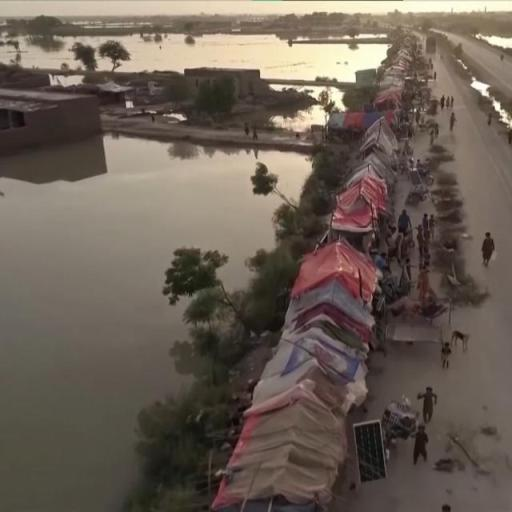flood: (0, 134, 312, 512), (114, 34, 388, 81), (18, 37, 110, 69), (263, 79, 356, 109), (473, 77, 512, 127), (273, 106, 327, 131), (477, 34, 512, 48), (0, 44, 16, 63)
house: (0, 92, 101, 146), (188, 65, 260, 98)
